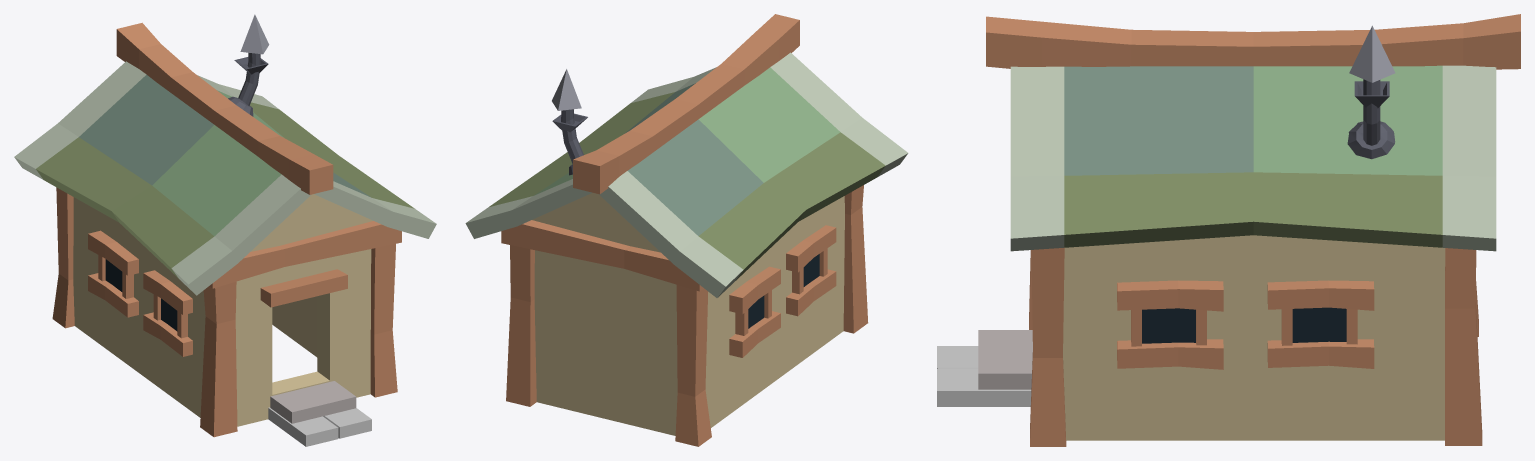
The model's file is Cottage_2.fbx.
The picture shows the model from 3 angles, left to right: view 1: azimuth 30°, elevation 25°; view 2: azimuth 150°, elevation 25°; view 3: azimuth 270°, elevation 25°; orthographic projection. The views are drawn at different scales.
Parts seen in each view (by area): view 1: roof; view 2: roof; view 3: roof.
Boxes of the visible parts, left/top/right/bottom form: roof: left=14, top=14, right=436, bottom=446; roof: left=465, top=14, right=908, bottom=446; roof: left=937, top=14, right=1520, bottom=446.
Bounding box in the file's own units: 113 × 165 × 127.
